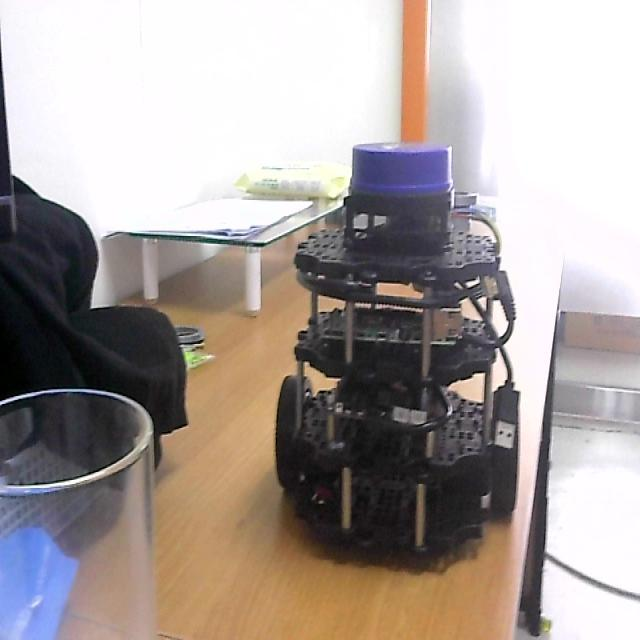turtle: (275, 140, 522, 567)
